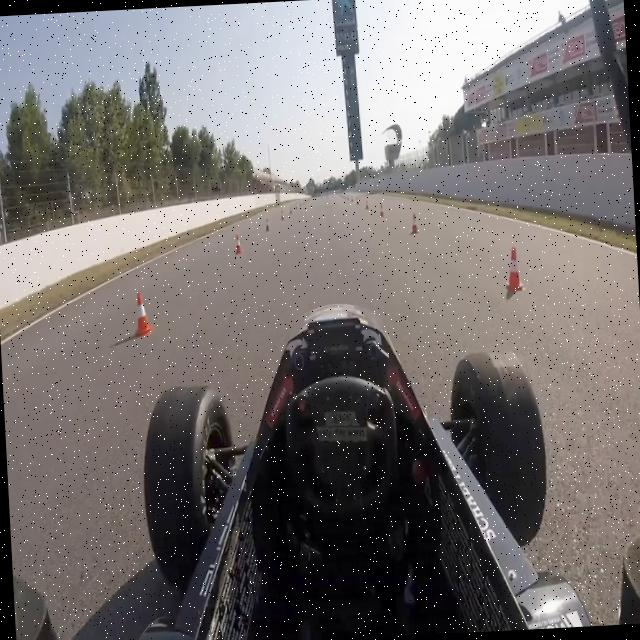orange_cone: (501, 242, 525, 293), (131, 288, 154, 340), (234, 233, 244, 254), (410, 213, 419, 234), (266, 218, 270, 233), (380, 203, 384, 217)
